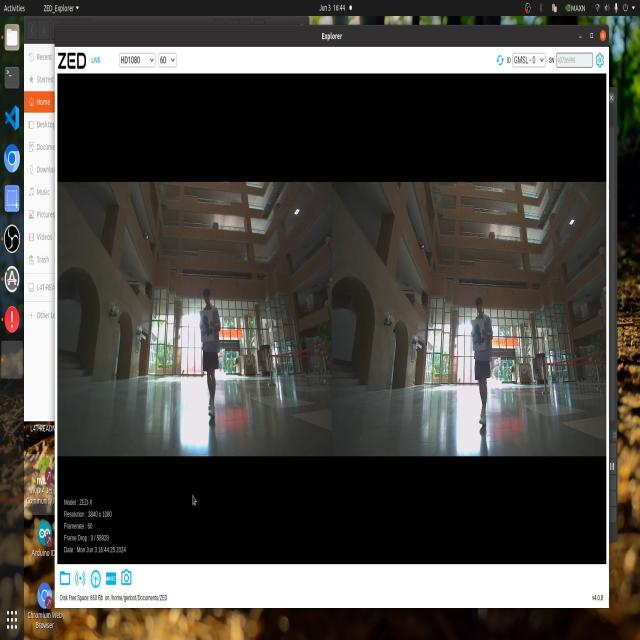blue: (200, 312, 215, 344), (475, 320, 487, 351)
